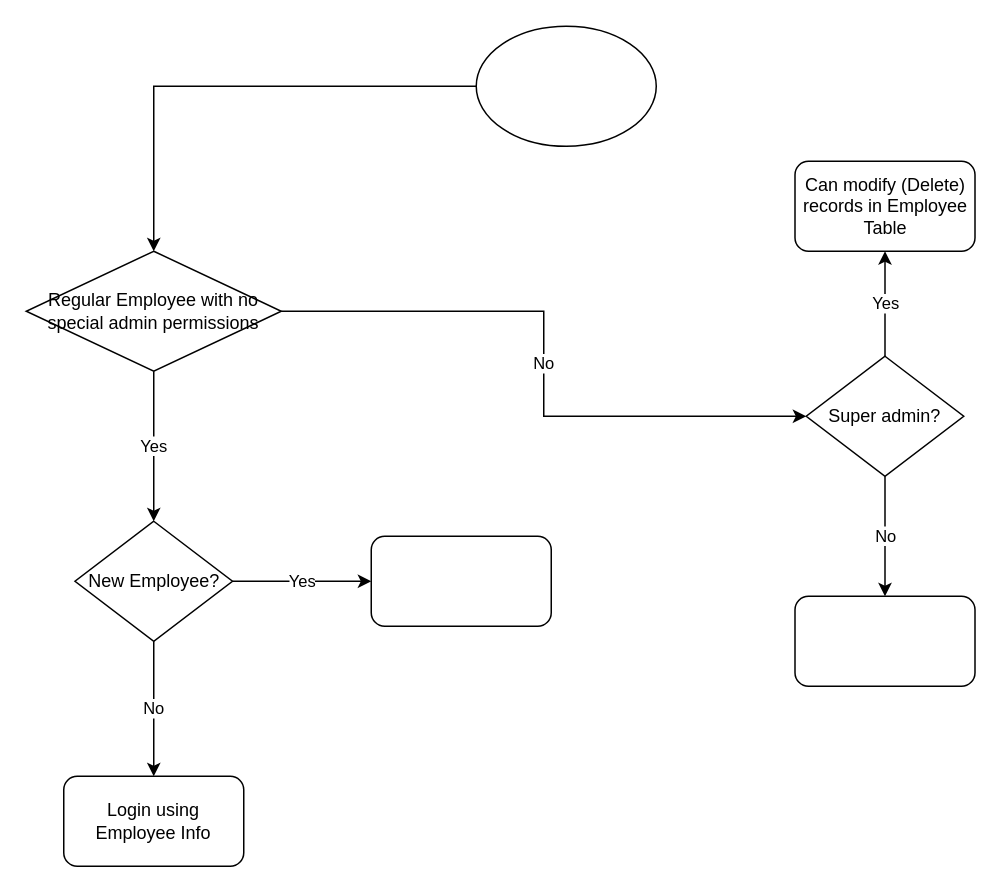
This 1002x893 diagram has some shape labels left out. The box of each missing label's shape, as (x1, y1, x2, y2) in pixels:
Begin: (475, 25, 656, 146)
Cannot Modify records in Employee Table: (794, 595, 975, 686)
Create Employee account: (370, 535, 551, 626)
